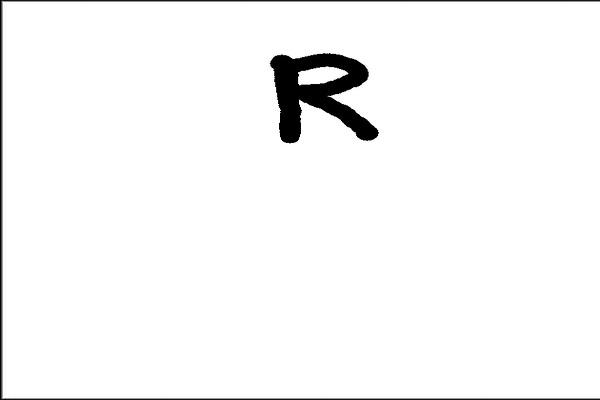R: (261, 45, 383, 154)
